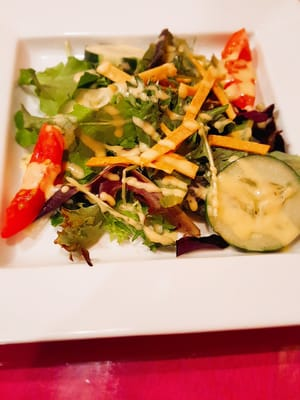sandwich: (4, 27, 298, 256)
